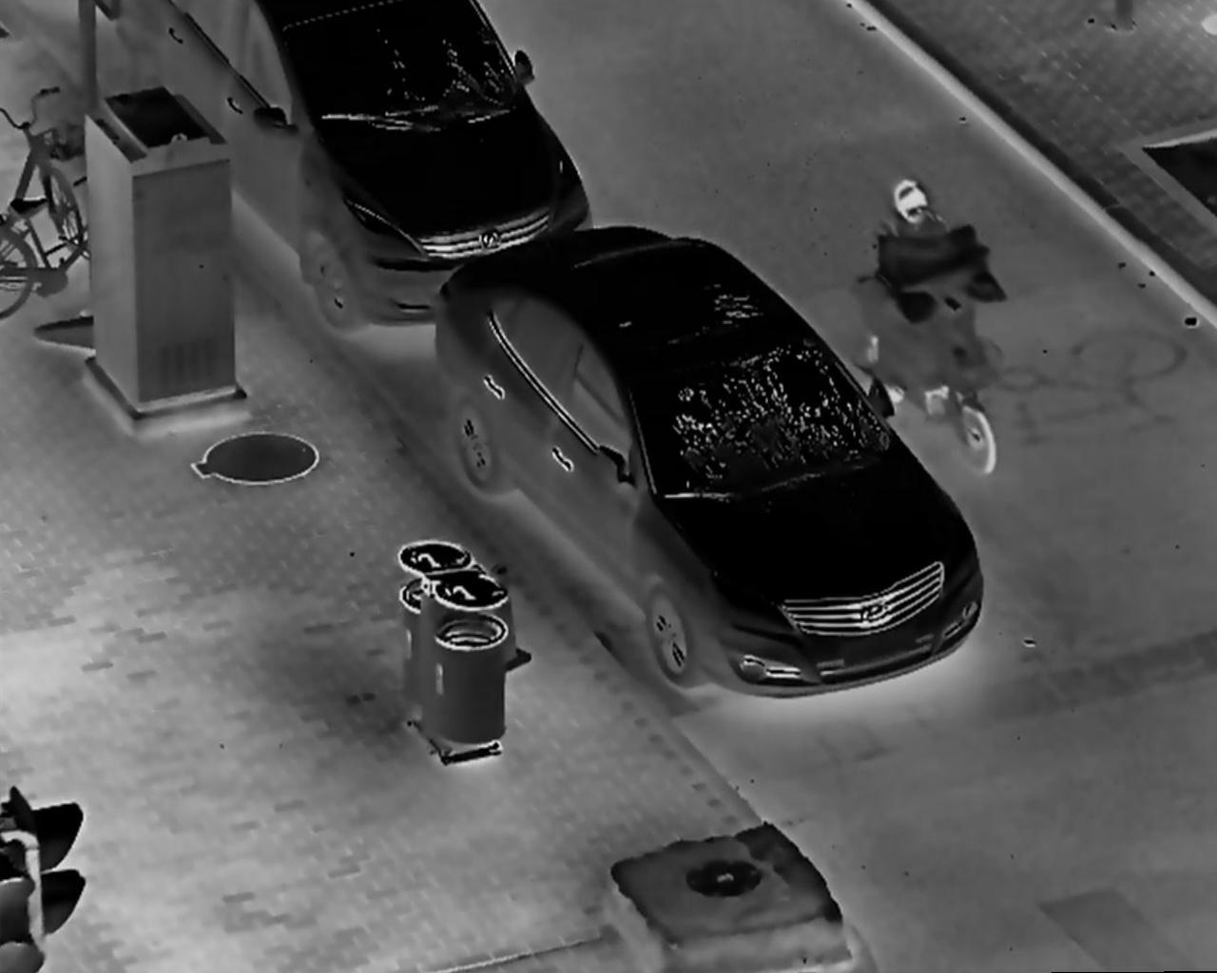person: (856, 172, 990, 421)
